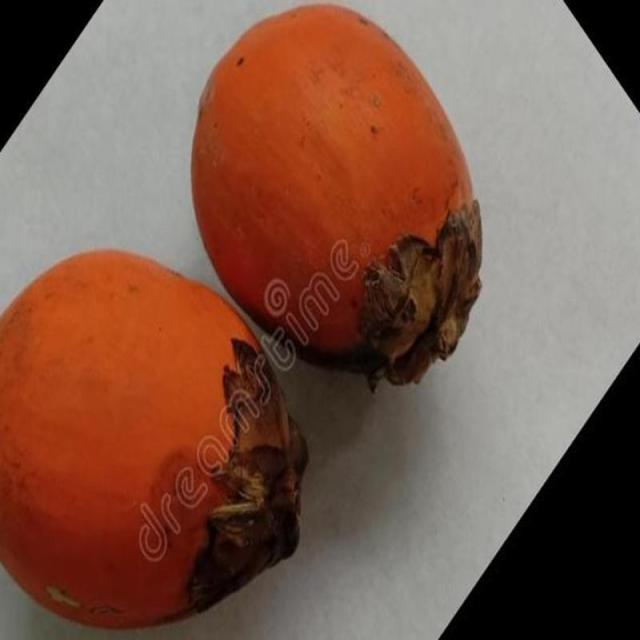good: (0, 249, 309, 633), (189, 5, 484, 388)
